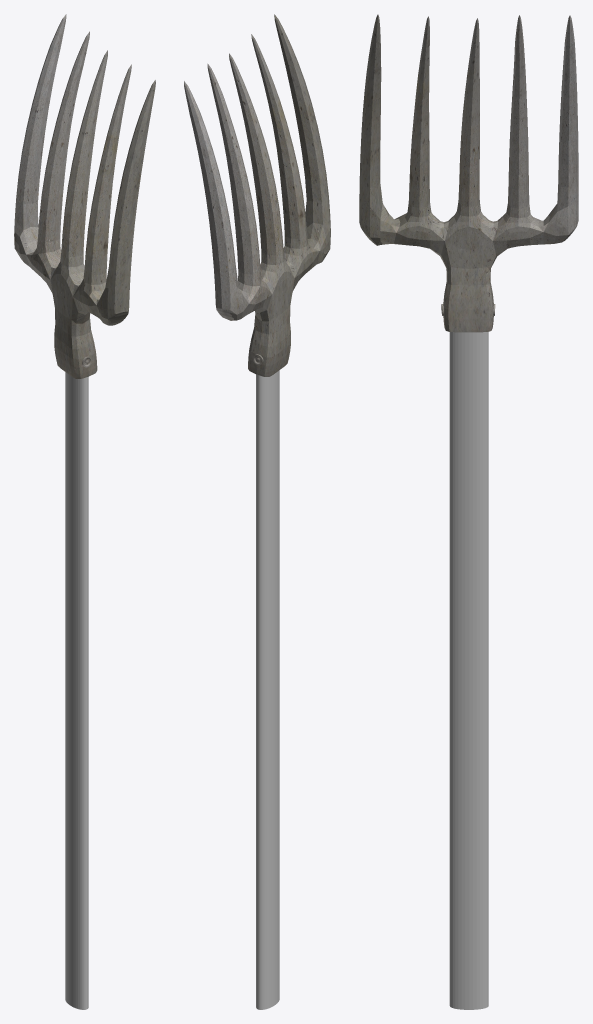
Rendered from LowPoly pitchforkNOLIGHTS.fbx.
3 renders of one model, left to right at view 1: azimuth 30°, elevation 25°; view 2: azimuth 150°, elevation 25°; view 3: azimuth 270°, elevation 25°, orthographic. The views are drawn at different scales.
Visible parts, largest first — view 1: Cube, Cylinder; view 2: Cube, Cylinder; view 3: Cylinder, Cube.
Part boxes in pixels (left/top/right/bottom): Cube: left=14, top=14, right=155, bottom=378; Cylinder: left=65, top=372, right=88, bottom=1009; Cube: left=184, top=14, right=330, bottom=376; Cylinder: left=256, top=370, right=279, bottom=1009; Cylinder: left=449, top=332, right=488, bottom=1009; Cube: left=359, top=14, right=578, bottom=332.
Size of the model in its own units: 29.51 by 501 by 98.7.
